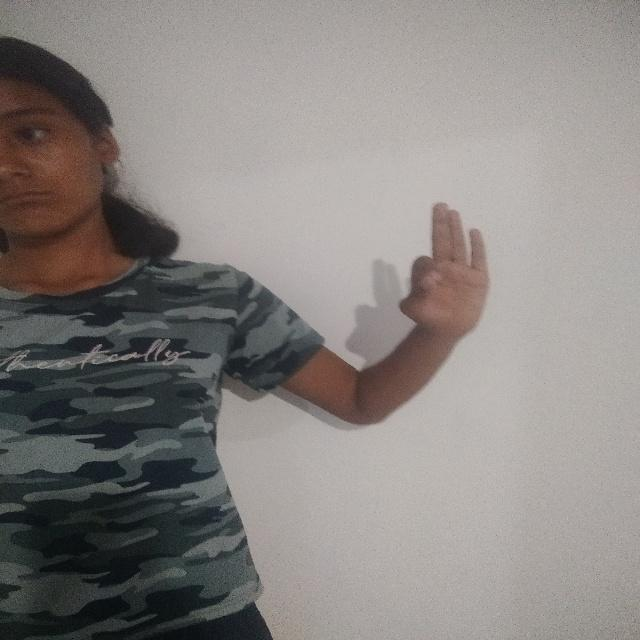Okay: (388, 198, 510, 358)
